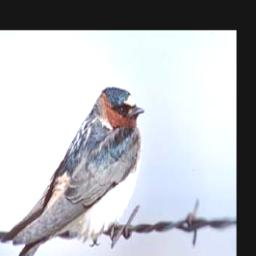Swallow: (1, 86, 143, 256)
